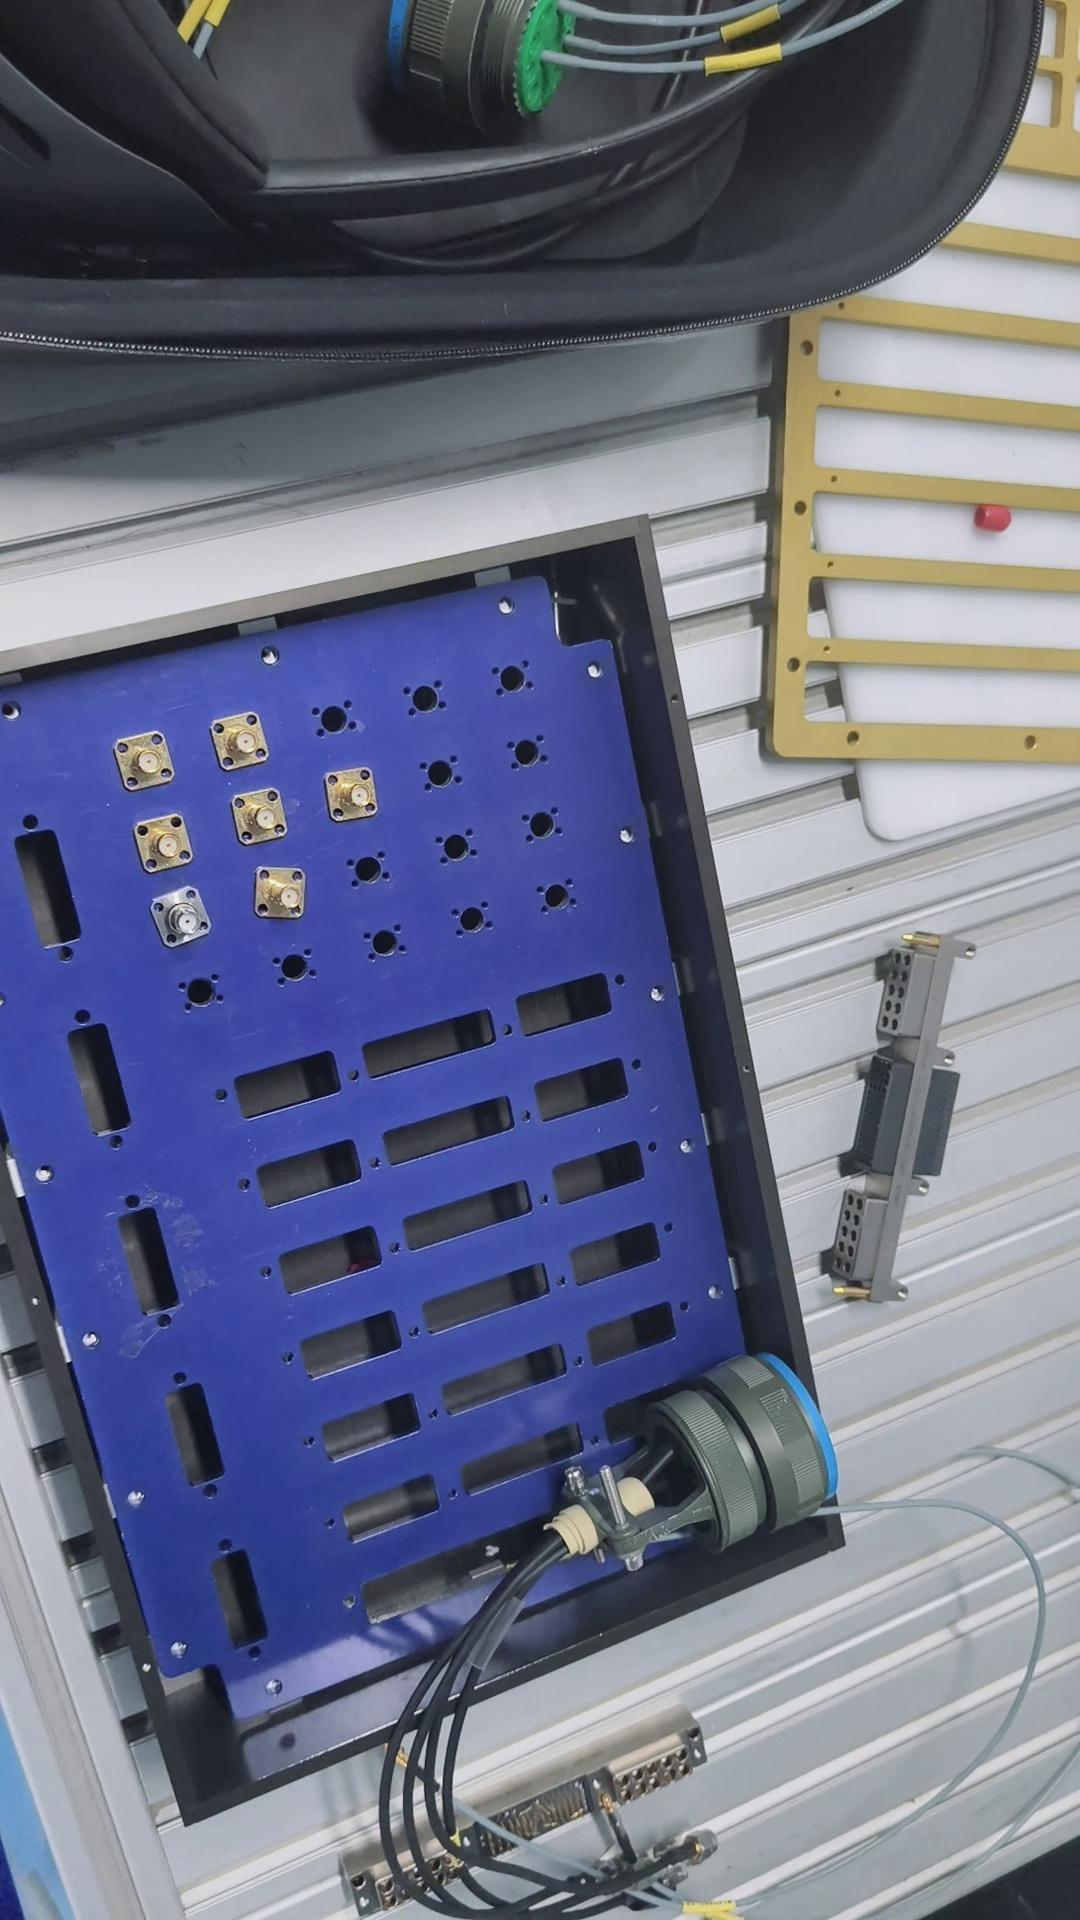SMA: (208, 712, 277, 771), (113, 731, 181, 790), (253, 862, 316, 924), (135, 818, 196, 876), (323, 764, 386, 820), (156, 886, 214, 944), (235, 790, 291, 847)
